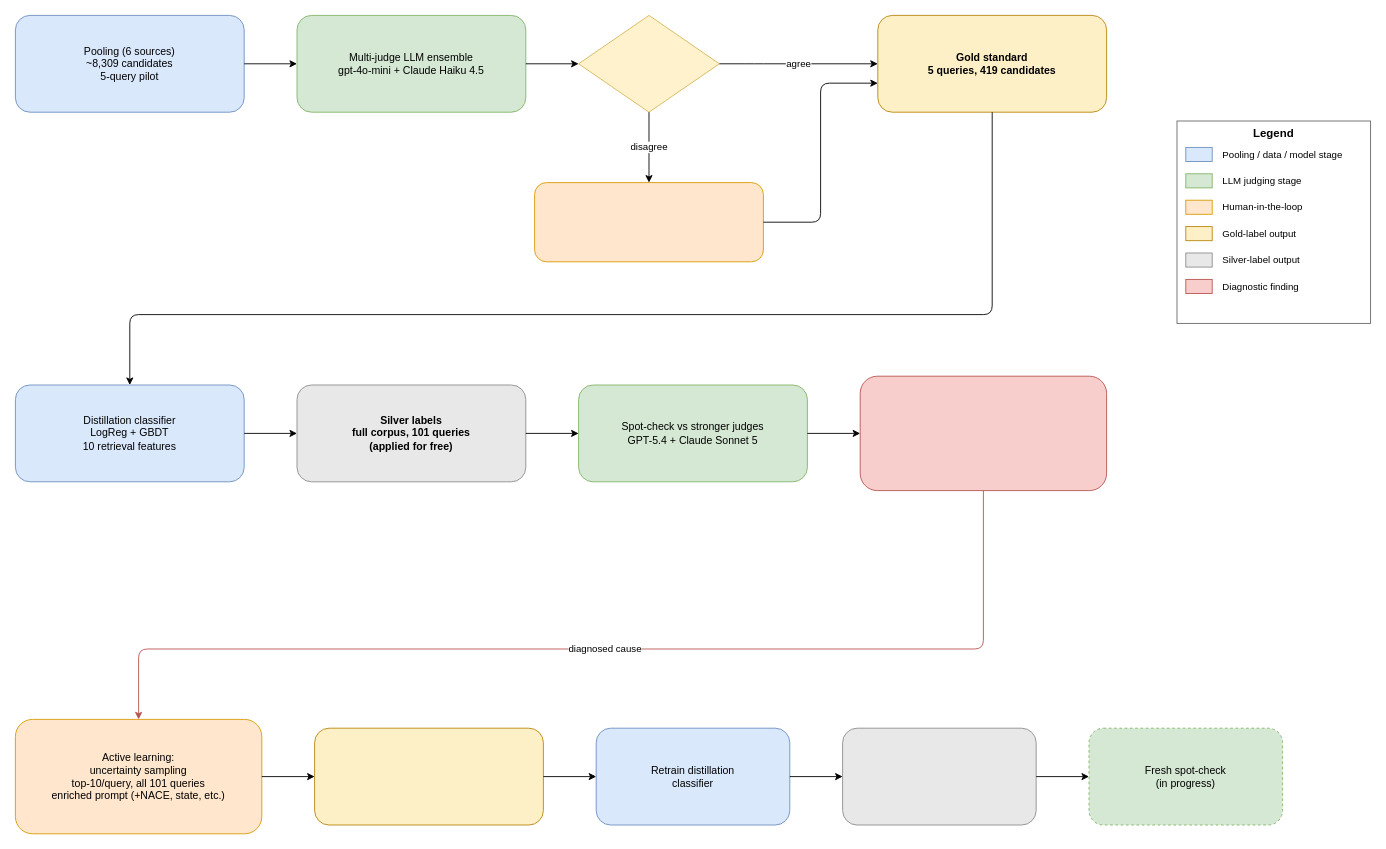
Some shapes in this 1386 by 849 pixel diagram are drawn without their labels. Each missing label, with the centre of its shape:
65.9% accuracy Diagnosis: out-of-distribution (only 5/101 query topics seen): (x=983, y=433)
Agree?: (x=648, y=63)
Expanded gold standard 101 queries, 1,429 candidates: (x=428, y=776)
Human tie-break (blind calibration verified): (x=648, y=222)
Silver labels v2 (full corpus): (x=939, y=776)
